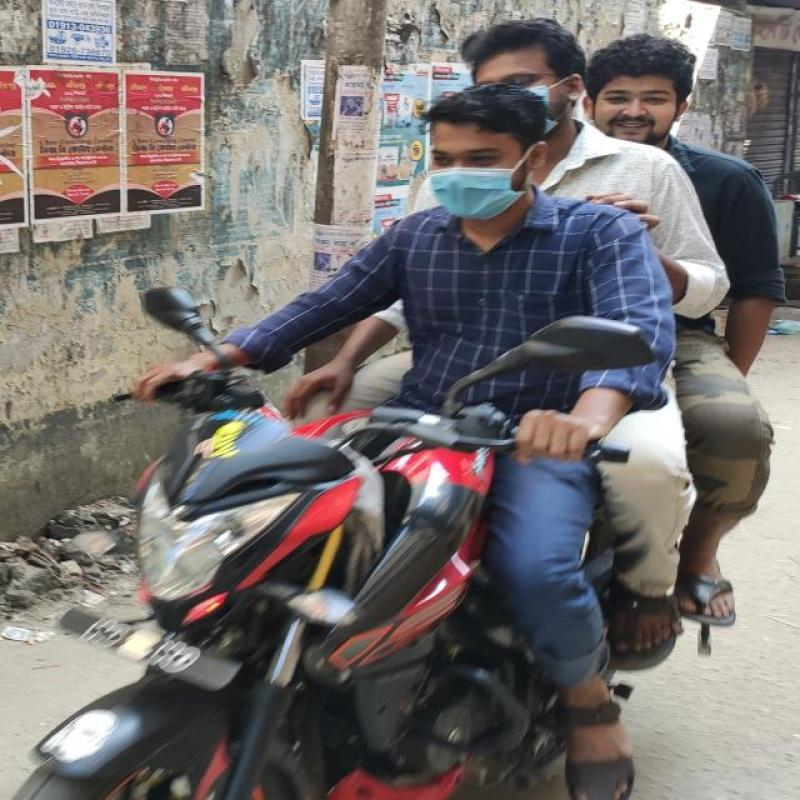nohelmet: (413, 88, 557, 241), (587, 30, 703, 138)
